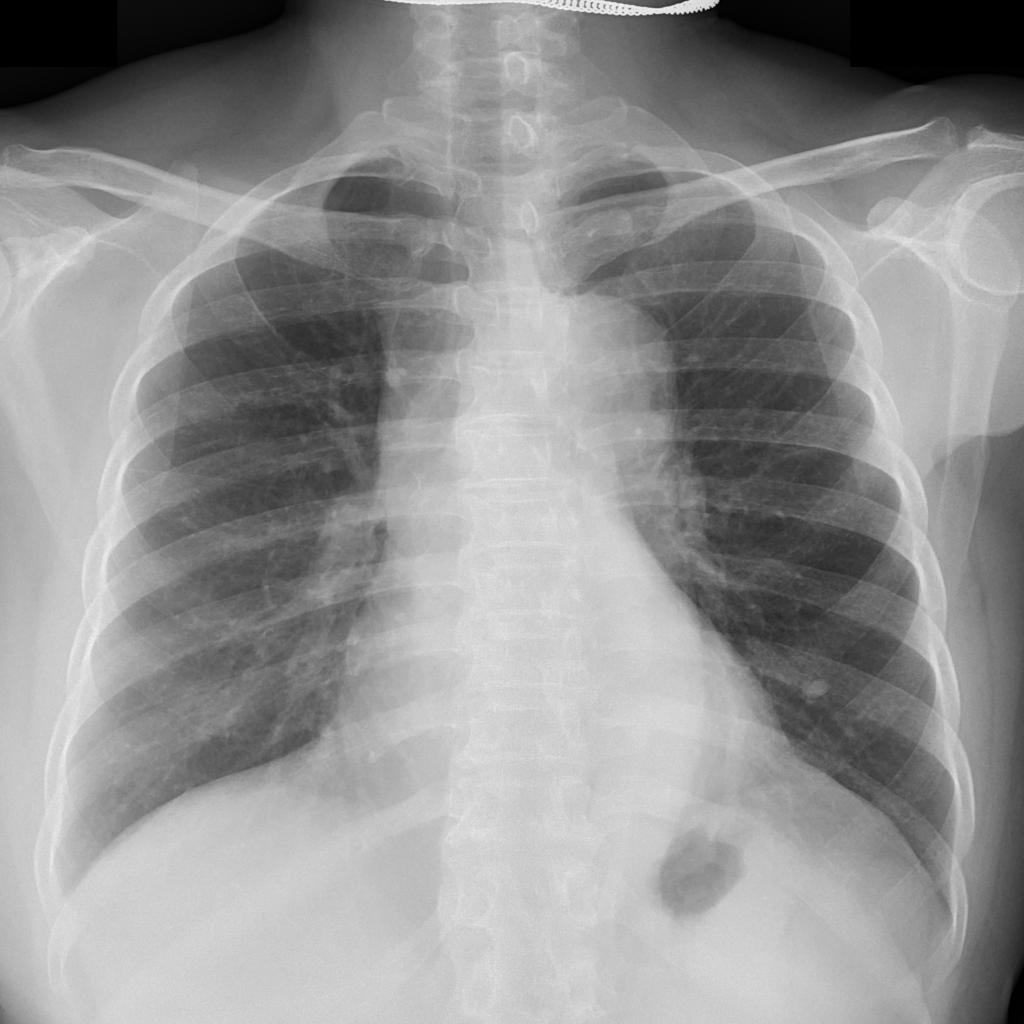Nodule: (800, 672, 837, 703)
